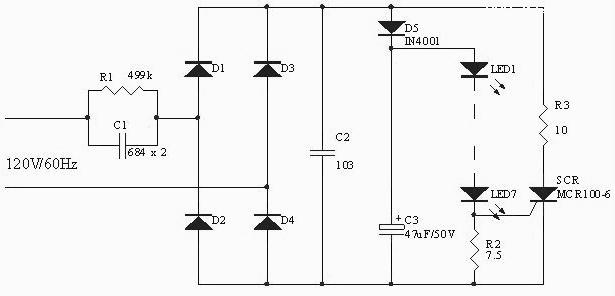cap1: (374, 222, 408, 239), (306, 146, 340, 161), (114, 130, 130, 160)
diode: (181, 57, 215, 83), (524, 181, 558, 207), (456, 59, 492, 81), (249, 211, 284, 233), (459, 183, 491, 206), (251, 57, 284, 79), (183, 209, 212, 232), (376, 17, 407, 38)
res2: (98, 82, 146, 98), (536, 99, 551, 150), (468, 228, 485, 273)
